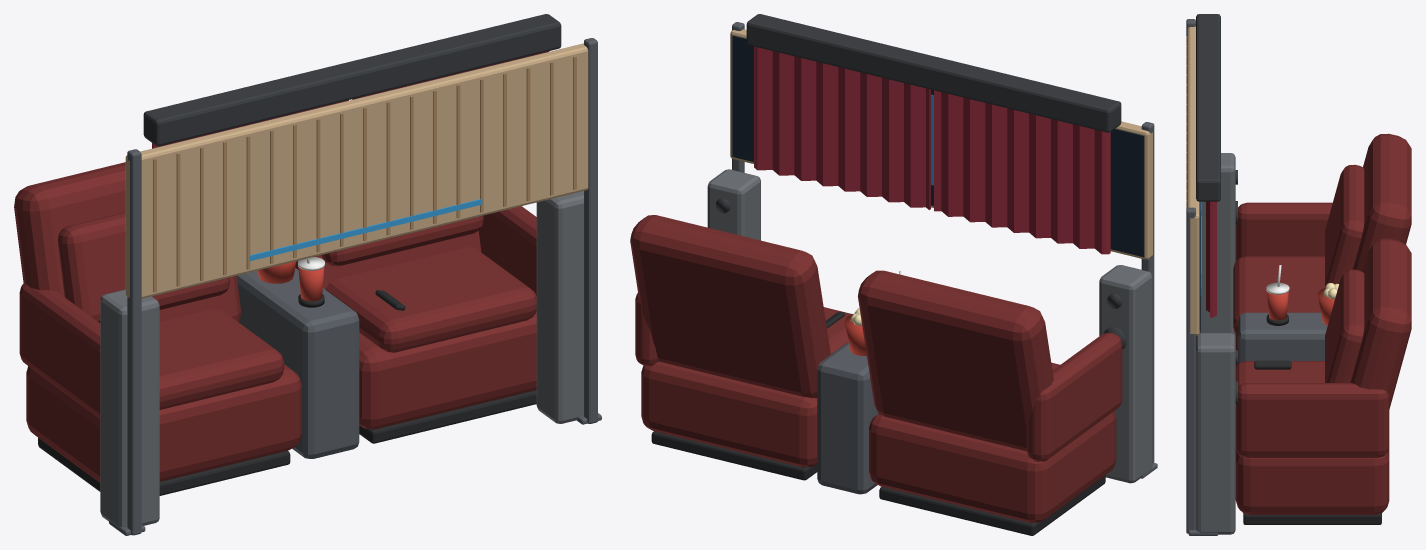
Rendered from cinemaWall.glb.
3 views of the same model, side by side, from view 1: azimuth 30°, elevation 25°; view 2: azimuth 150°, elevation 25°; view 3: azimuth 270°, elevation 25° (orthographic). The views are drawn at different scales.
Parts seen in each view (by area): view 1: body; view 2: body, curtain_right, curtain_left; view 3: body, curtain_left.
Boxes of the visible parts, left/top/right/bottom form: body: left=14, top=14, right=601, bottom=535; body: left=630, top=14, right=1157, bottom=535; curtain_right: left=934, top=90, right=1110, bottom=254; curtain_left: left=754, top=46, right=930, bottom=209; body: left=1186, top=14, right=1411, bottom=535; curtain_left: left=1206, top=201, right=1216, bottom=317.
Bounding box in the file's own units: 1.88 × 1.52 × 0.9102.
